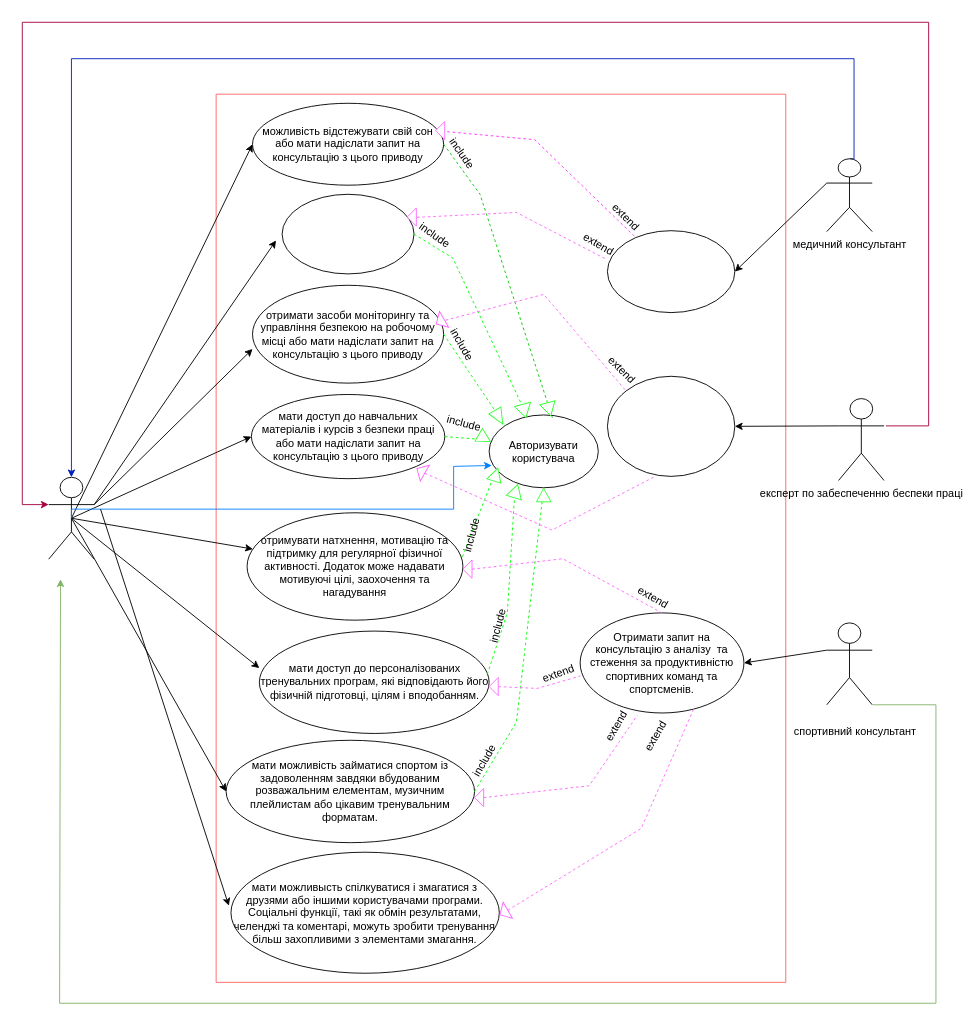
Image size: 978x1026. Some labels were removed from this diagram. The centre of each missing label's shape, as x and y in pixels:
Користувач: (x=71, y=517)
Отримати запит на консультацію забеспечення беспеки праці: (x=671, y=425)
Отримати запит на медичну консультацію: (x=671, y=271)
отримати персоналізовані рекомендації з поліпшеню сну: (x=347, y=233)
